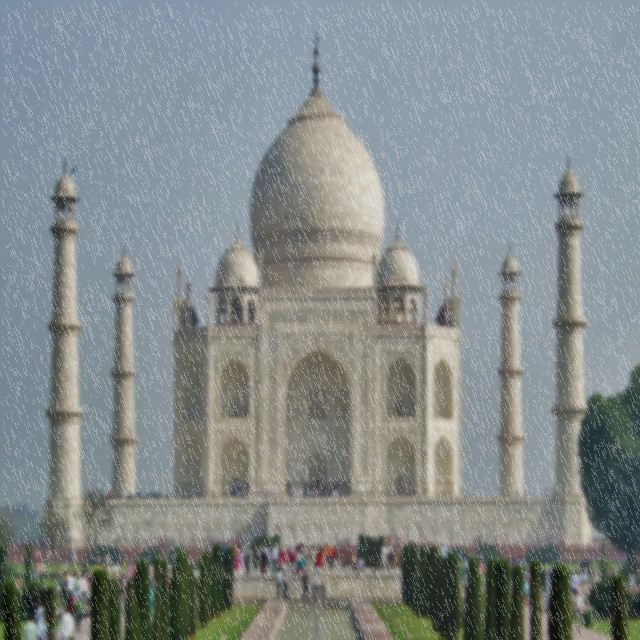pessoa: (208, 532, 438, 574), (594, 563, 640, 598), (284, 482, 345, 498), (570, 585, 584, 637), (540, 564, 553, 610), (54, 542, 80, 563), (38, 614, 58, 640), (34, 597, 46, 639), (60, 604, 74, 640), (22, 612, 38, 640), (228, 480, 250, 499), (73, 593, 83, 633), (148, 559, 154, 624), (506, 550, 524, 571), (300, 569, 310, 604), (273, 566, 283, 601), (101, 490, 135, 500), (66, 588, 76, 620), (523, 566, 531, 606), (166, 558, 174, 598), (118, 582, 127, 616), (80, 569, 88, 607), (312, 570, 321, 603), (281, 568, 290, 601), (59, 572, 67, 608), (112, 570, 128, 588), (65, 572, 76, 598), (81, 573, 89, 608), (578, 553, 592, 572), (580, 566, 588, 597), (18, 534, 28, 556), (462, 557, 468, 593), (86, 576, 92, 610), (572, 571, 580, 596), (183, 488, 200, 499), (440, 540, 450, 558), (38, 560, 44, 588), (74, 584, 82, 602), (104, 562, 112, 580), (126, 560, 132, 582), (32, 563, 38, 584), (45, 546, 52, 564), (76, 574, 82, 594), (35, 562, 40, 586), (132, 560, 138, 580), (54, 580, 60, 599), (72, 573, 78, 592), (35, 546, 41, 565), (116, 559, 121, 581), (255, 532, 266, 542), (64, 570, 70, 588), (113, 561, 119, 579), (36, 536, 45, 548), (460, 493, 485, 497), (102, 563, 106, 587), (96, 551, 101, 570), (247, 534, 252, 552), (86, 568, 92, 582), (160, 562, 162, 604), (545, 530, 550, 546), (166, 490, 172, 503), (568, 572, 572, 590), (202, 534, 207, 548), (561, 530, 565, 547), (523, 491, 527, 507), (504, 532, 508, 548), (494, 534, 498, 550), (170, 534, 174, 550), (102, 553, 106, 569), (68, 572, 78, 578), (473, 532, 477, 546), (134, 536, 138, 550), (152, 536, 156, 550), (159, 536, 163, 550), (216, 534, 220, 548), (64, 562, 68, 576), (47, 548, 51, 562), (32, 548, 36, 562), (69, 535, 73, 549), (106, 554, 110, 568), (168, 537, 172, 550), (135, 490, 139, 503), (263, 488, 267, 501), (268, 486, 272, 499), (272, 487, 276, 500), (551, 486, 555, 498), (592, 530, 596, 542), (538, 533, 542, 545), (479, 532, 482, 548), (157, 536, 161, 548), (162, 534, 166, 546), (232, 536, 236, 548), (164, 492, 168, 504), (156, 490, 160, 502), (150, 490, 154, 502), (136, 489, 139, 504), (546, 487, 550, 498), (152, 490, 156, 500), (144, 490, 148, 500), (144, 556, 148, 566), (166, 537, 169, 550), (544, 486, 547, 498), (516, 488, 520, 497), (476, 534, 479, 546), (115, 536, 119, 545), (148, 491, 152, 500), (484, 532, 487, 542), (211, 488, 214, 498), (158, 492, 162, 499), (139, 492, 143, 499), (486, 532, 488, 544), (180, 491, 183, 498)
